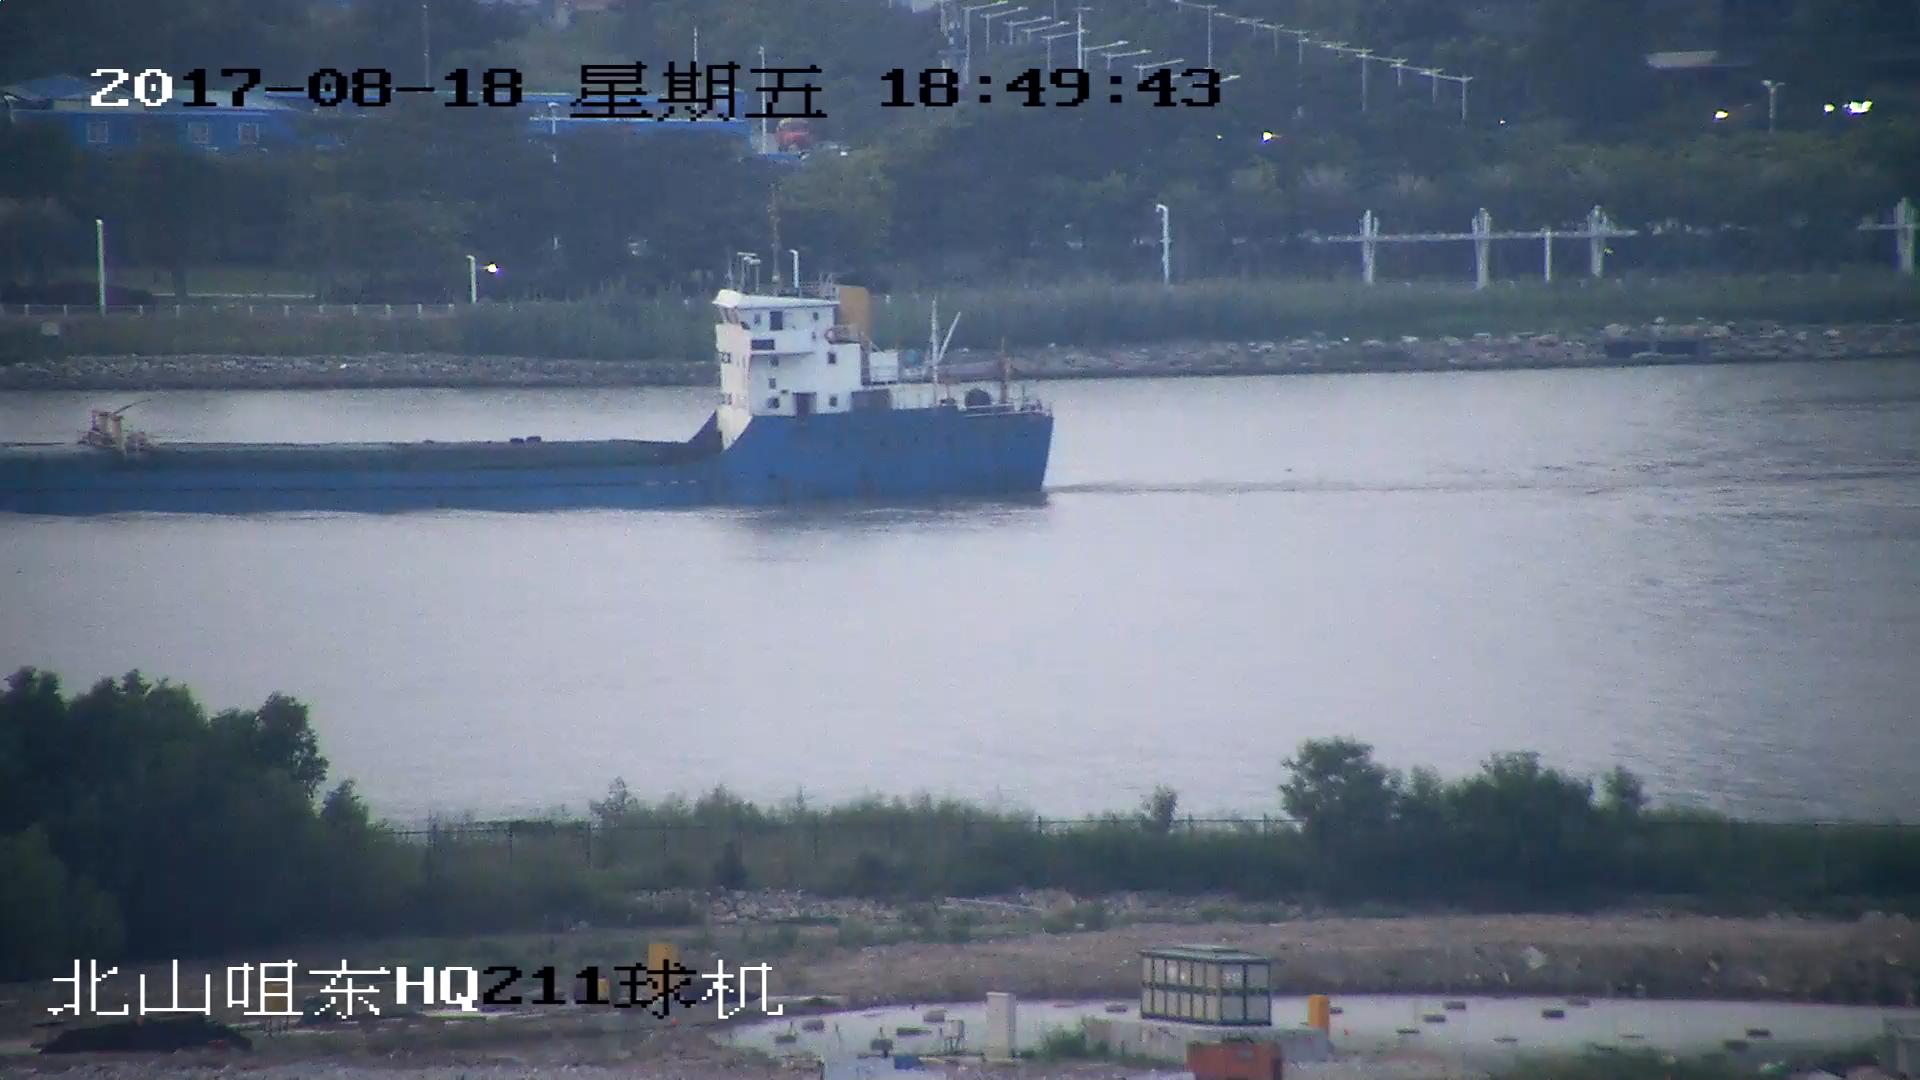general cargo ship: (1, 258, 1053, 507)
